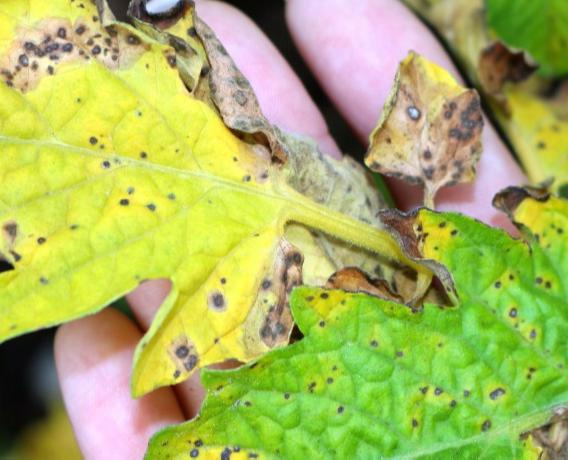Tomato Septoria leaf spot: (91, 219, 568, 460), (0, 0, 316, 359)
